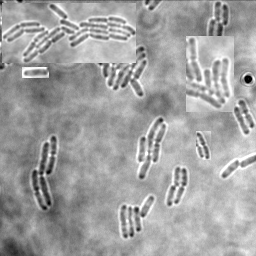Dividing: (175, 167, 189, 204), (238, 99, 255, 128), (196, 131, 211, 160), (22, 67, 49, 78)
Microcolony: (2, 3, 136, 63), (186, 36, 234, 112), (137, 117, 168, 180), (32, 135, 57, 211), (120, 195, 155, 238), (208, 1, 229, 35)
Rod: (233, 106, 251, 135), (222, 157, 240, 178), (167, 184, 177, 206), (174, 166, 183, 187)
